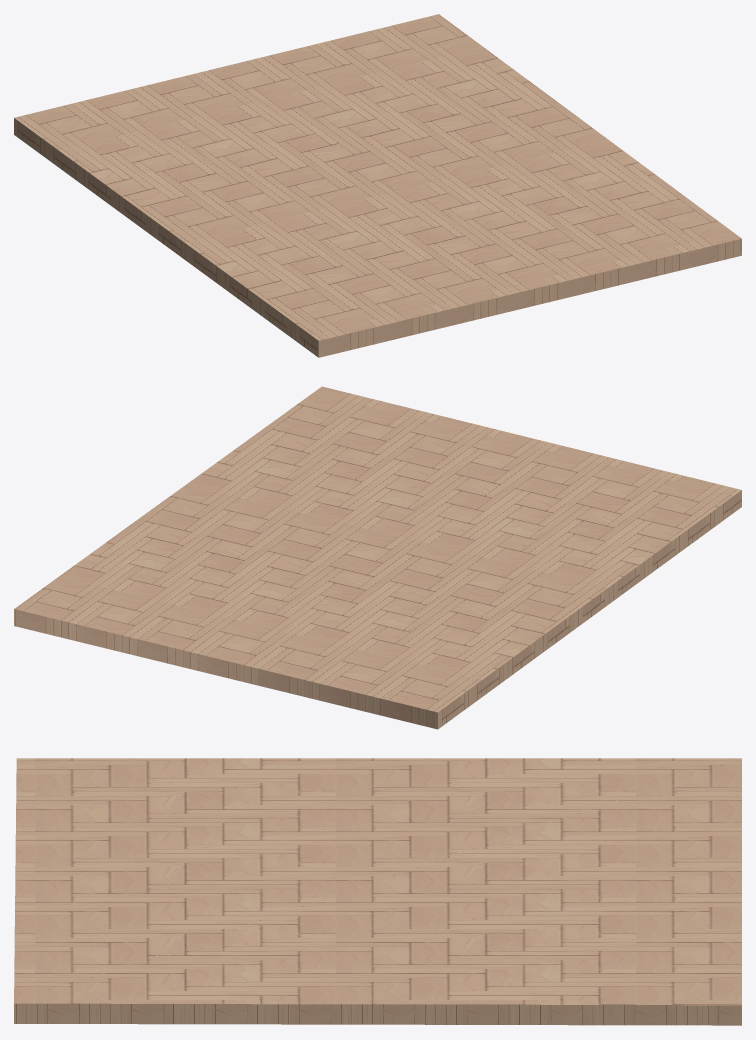
The model's file is denemeee.fbx.
The picture shows the model from 3 angles, top to bottom: view 1: azimuth 30°, elevation 25°; view 2: azimuth 150°, elevation 25°; view 3: azimuth 270°, elevation 25°; orthographic projection. The views are drawn at different scales.
Visible parts, largest first — view 1: ev.002; view 2: ev.002; view 3: ev.002.
Boxes of the visible parts, x1,y1,x2,y2 form: ev.002: (14,14,741,357); ev.002: (14,386,741,729); ev.002: (14,758,741,1025).
Bounding box in the file's own units: 3405 × 130 × 4244.
1 material, 1 textured.
